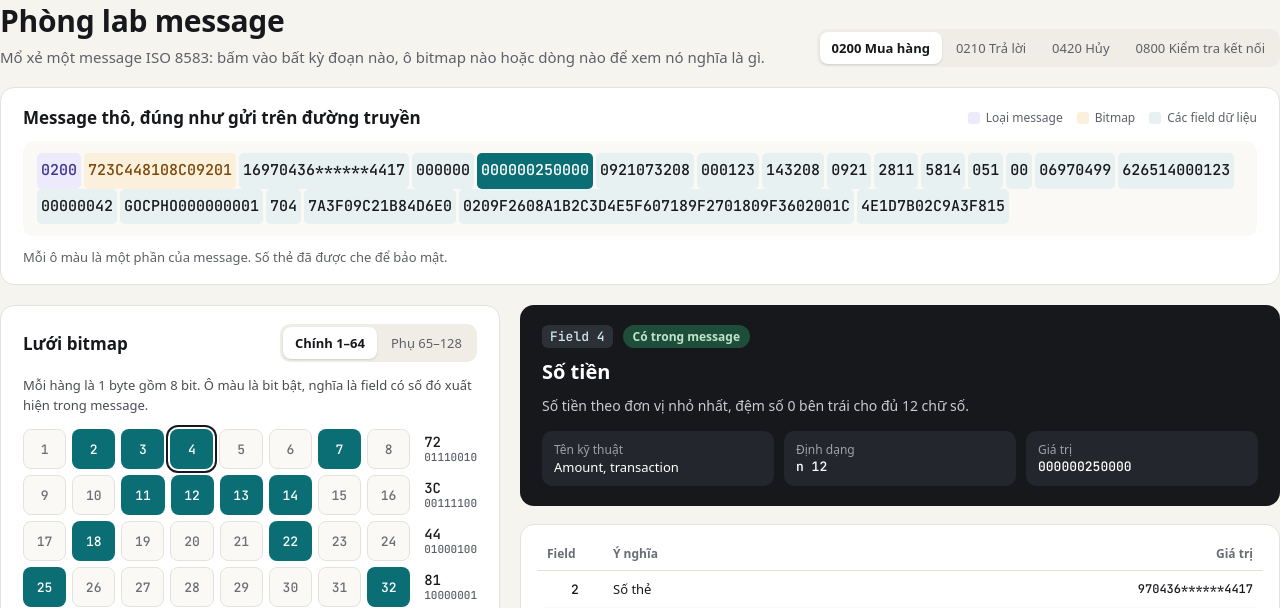
Test: MessageLabScreen › breaks down the MTI's four digits __MCN_104_AC3
The image size is (1280, 608).
Expected: the button named "Bit 11, bật" is shown, x1=121 y1=475 x2=164 y2=515
Click the button "0200". click: {"x": 59, "y": 171}
box: x1=37 y1=153 x2=81 y2=188
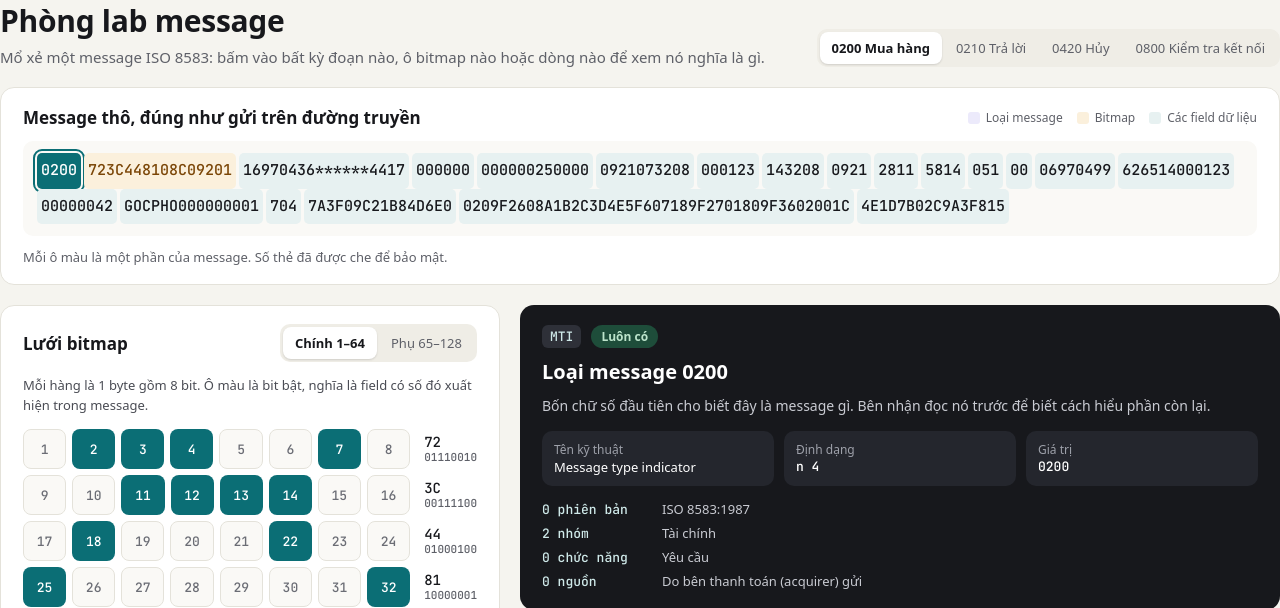
Expected: the text "Tài chính" is shown, x1=662 y1=524 x2=716 y2=542
Expected: the text "Do bên thanh toán (acquirer) gửi" is shown, x1=662 y1=572 x2=862 y2=590
